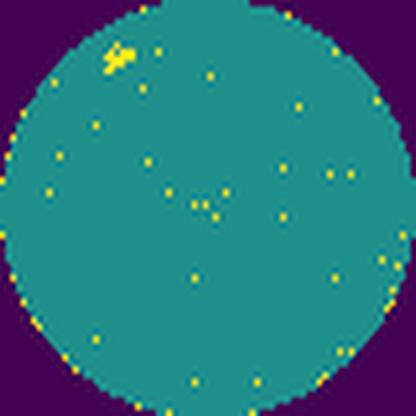Loc: (98, 40, 138, 72)
